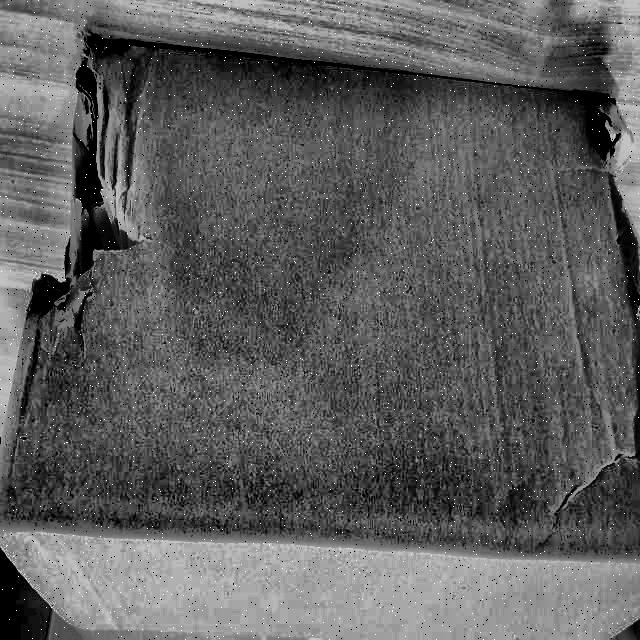box: (0, 10, 639, 640)
hole: (29, 41, 139, 329), (595, 89, 619, 171)
